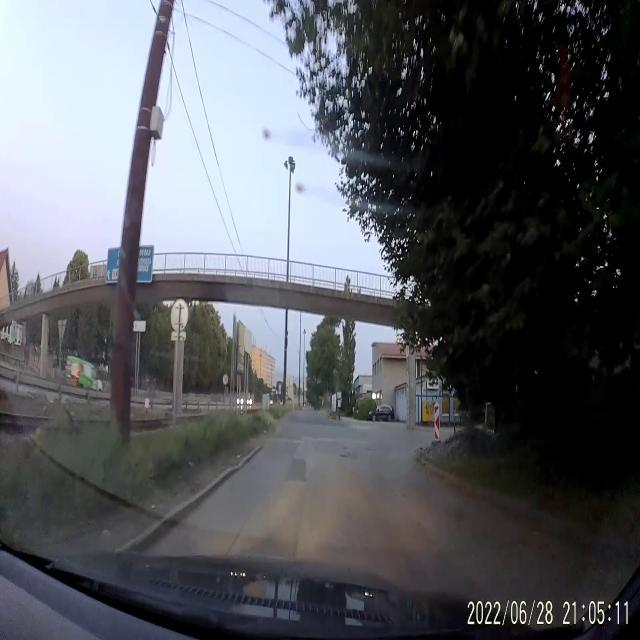Pothole: (334, 451, 352, 462)
